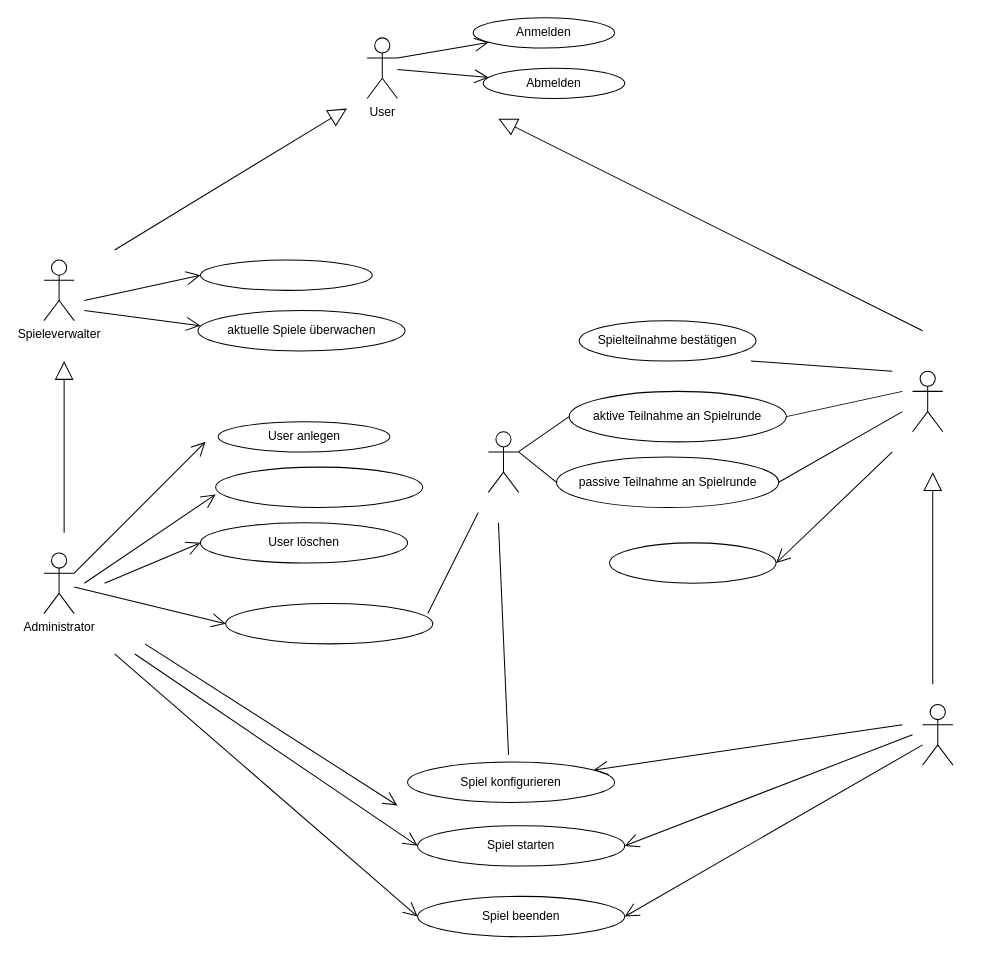
This 983x954 diagram has some shape labels left out. Here are the shapes that lost their labels. From the top down, the centre of each, then its label:
[285,274]: neues Thema anlegen
[927,401]: Spieler
[503,461]: Würfel
[319,487]: User bearbeiten
[692,562]: Statistiken anzeigen
[329,623]: Würfel konfigurieren
[937,734]: Spielehost
